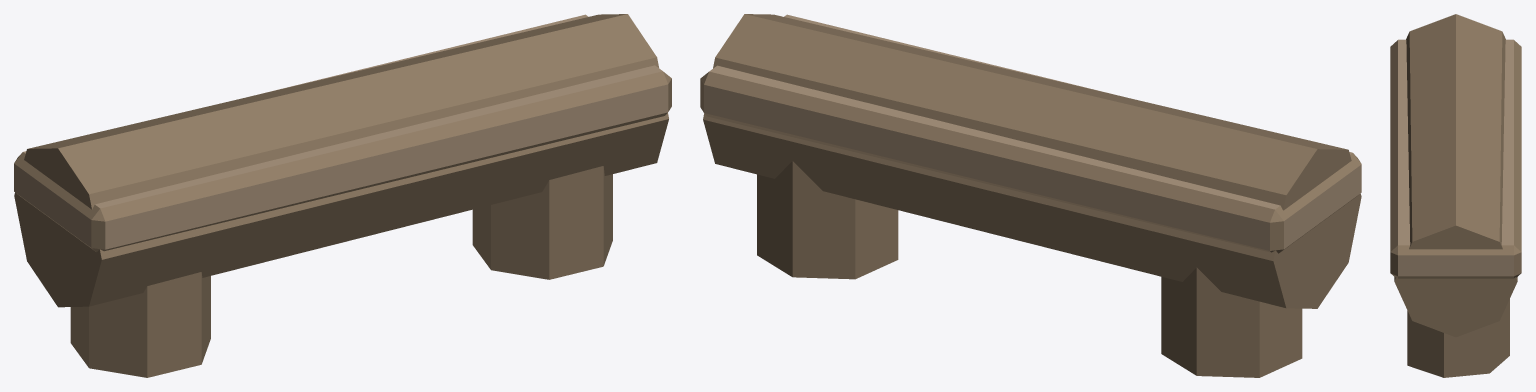
The model's file is bench_3.glb.
3 renders of one model, left to right at view 1: azimuth 30°, elevation 25°; view 2: azimuth 150°, elevation 25°; view 3: azimuth 270°, elevation 25°, orthographic. The views are drawn at different scales.
Visible parts, largest first — view 1: Bench_3; view 2: Bench_3; view 3: Bench_3.
Part boxes in pixels (bbox=[...]): Bench_3: bbox=[14, 14, 671, 377]; Bench_3: bbox=[700, 14, 1361, 377]; Bench_3: bbox=[1390, 14, 1521, 377].
Bounding box in the file's own units: 1.3 × 0.47 × 0.34.
